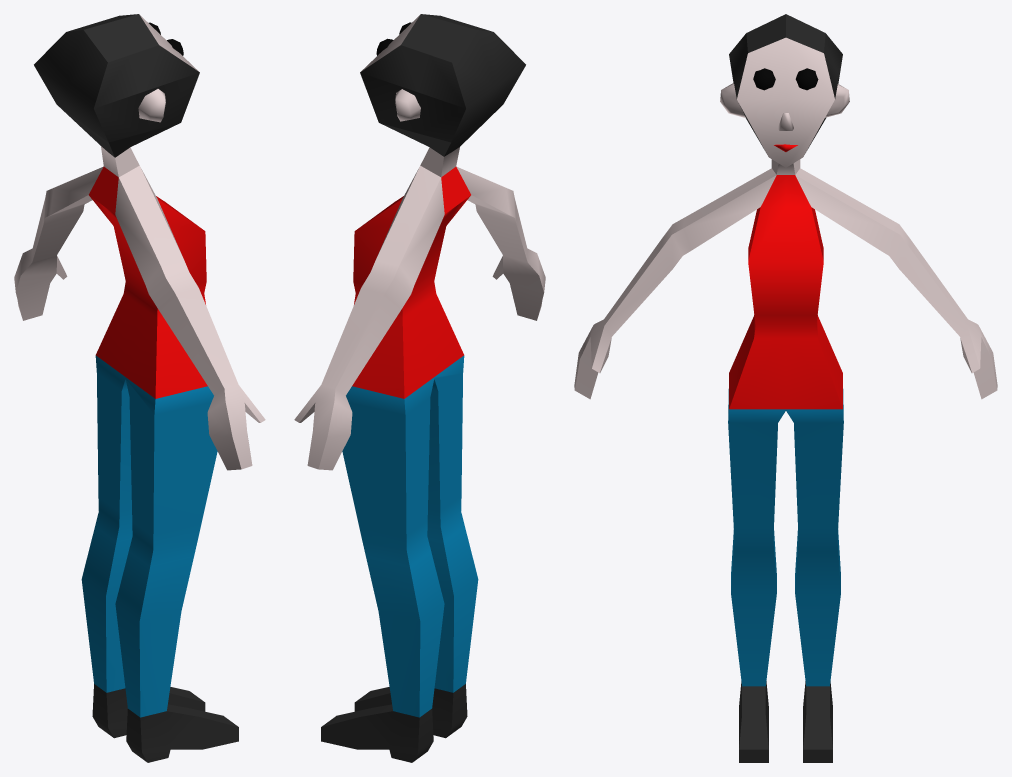
Rendered from newestLady.gltf.
3 views of the same model, side by side, from view 1: azimuth 30°, elevation 25°; view 2: azimuth 150°, elevation 25°; view 3: azimuth 270°, elevation 25° (orthographic). The views are drawn at different scales.
Visible parts, largest first — view 1: pCube9, pCube9_node; view 2: pCube9, pCube9_node; view 3: pCube9, pCube9_node.
Boxes of the visible parts, <box> form: pCube9: <box>34,14,238,762</box>; pCube9_node: <box>14,14,265,470</box>; pCube9: <box>321,14,525,762</box>; pCube9_node: <box>294,14,545,470</box>; pCube9: <box>728,14,843,762</box>; pCube9_node: <box>574,37,997,399</box>.
Bounding box in the file's own units: 2.32 × 10.72 × 5.96.
